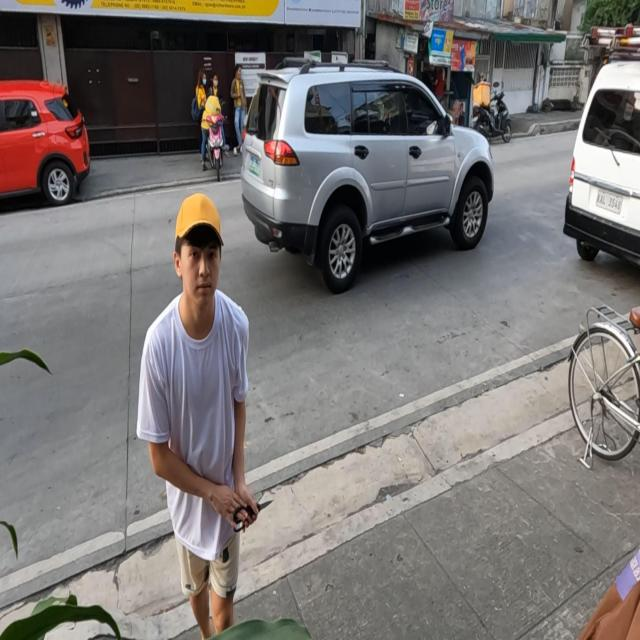scissor: (233, 499, 274, 533)
